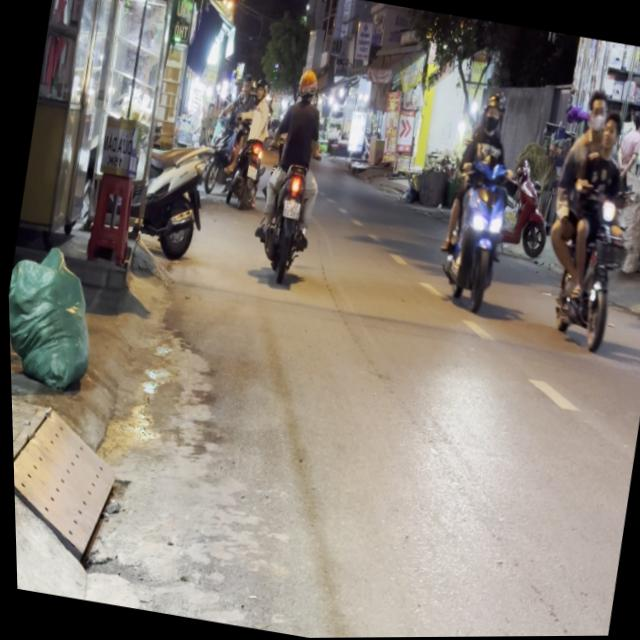helmet: (480, 93, 505, 131), (297, 66, 321, 101)
licenseplate: (525, 84, 640, 357), (426, 86, 532, 315), (244, 62, 342, 283)
motorcyclist: (597, 110, 625, 156), (584, 87, 612, 133)
nohelmet: (281, 198, 301, 219)
